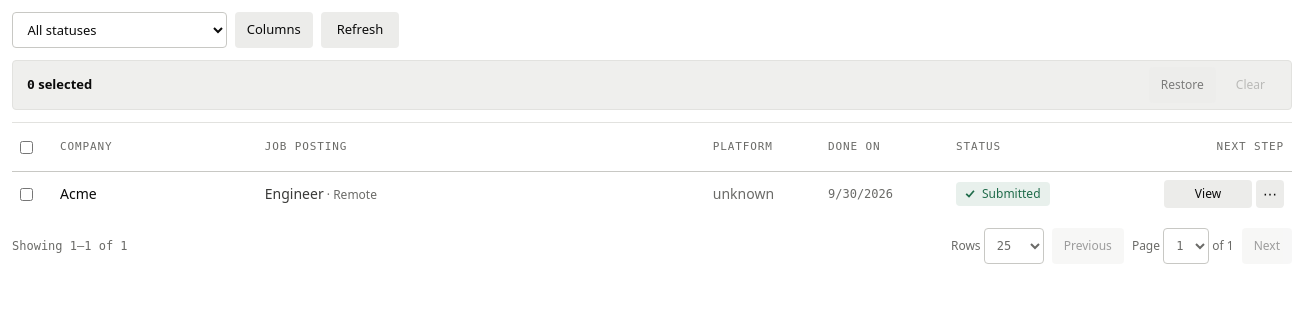
ApplicationsTable actions › labels an archived submitted row's restore action
Click the button named "More actions for Acme Engineer" at (1270, 194), box [1256,180,1284,208]
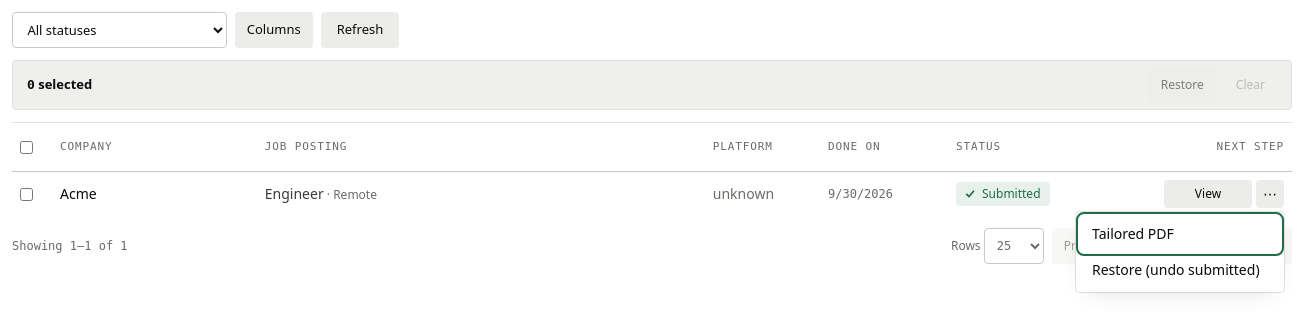
Result: the menu item "Restore (undo submitted)" is shown at [1080,252,1280,288]
